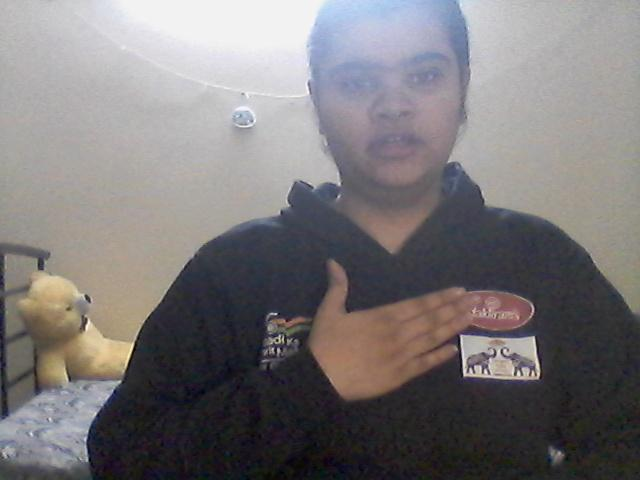please: (299, 249, 484, 400)
